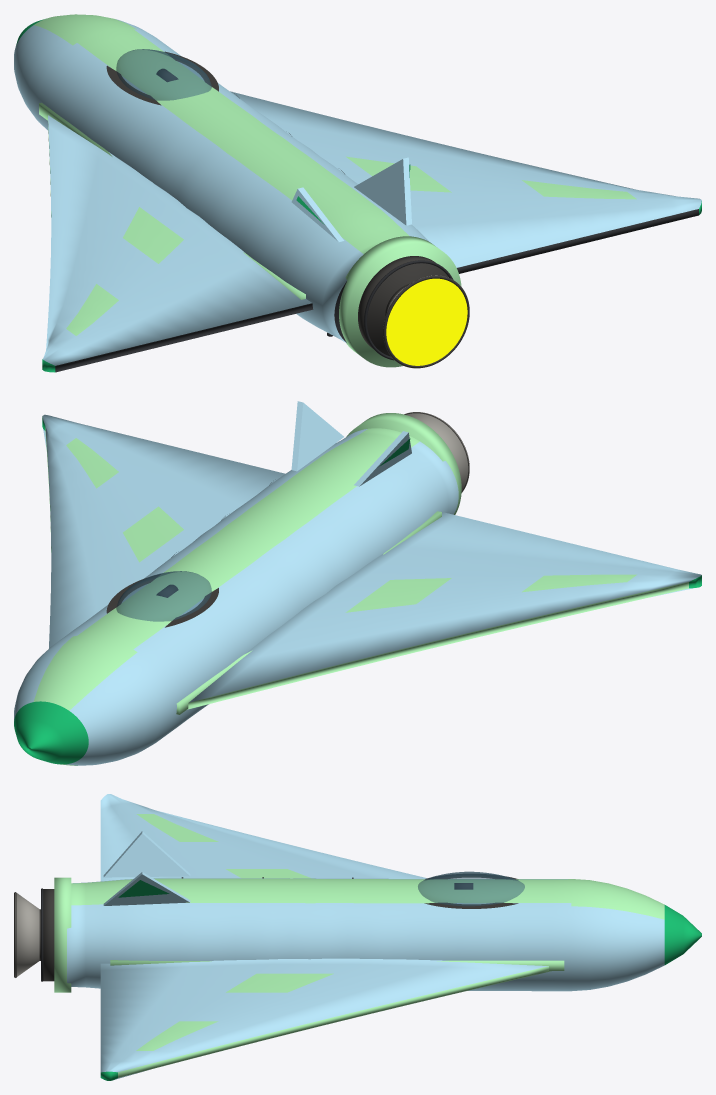
Rendered from Ship_Longwing_4.glb.
The picture shows the model from 3 angles, top to bottom: view 1: azimuth 30°, elevation 25°; view 2: azimuth 150°, elevation 25°; view 3: azimuth 270°, elevation 25°; orthographic projection. The views are drawn at different scales.
Parts seen in each view (by area): view 1: Fuselage_OrganicEllipsoidTaperedBody_BakedPaint, Wing_Left_LongDeltaAerofoil_BakedPaint, Wing_Right_LongDeltaAerofoil_BakedPaint, EngineEmitter, AftCollar_IntegratedSingleEngineBand, CanopyGlass_LowInsetDome, EngineBlock_AftDarkSingleEngineHousing, TailFin_Right_CantedStabilizer, CanopyFrame_DorsalOvalRim, EngineLip_Center_DarkWideRim, WingRoot_Left_EmbeddedShoulder, TailFin_Left_CantedStabilizer (+1 smaller); view 2: Fuselage_OrganicEllipsoidTaperedBody_BakedPaint, Wing_Left_LongDeltaAerofoil_BakedPaint, Wing_Right_LongDeltaAerofoil_BakedPaint, CanopyGlass_LowInsetDome, TailFin_Right_CantedStabilizer, AftCollar_IntegratedSingleEngineBand, EngineBell_Center_BroadBurnishedNozzle, CanopyFrame_DorsalOvalRim, TailFin_Left_CantedStabilizer, WingRoot_Left_EmbeddedShoulder; view 3: Fuselage_OrganicEllipsoidTaperedBody_BakedPaint, Wing_Right_LongDeltaAerofoil_BakedPaint, Wing_Left_LongDeltaAerofoil_BakedPaint, CanopyGlass_LowInsetDome, TailFin_Left_CantedStabilizer, AftCollar_IntegratedSingleEngineBand, EngineBell_Center_BroadBurnishedNozzle, TailFin_Right_CantedStabilizer, EngineBlock_AftDarkSingleEngineHousing, WingRoot_Right_EmbeddedShoulder, CanopyFrame_DorsalOvalRim, TailFin_Right_BakedTrimPatch.
Part boxes in pixels (x1,y1,x2,y2): Fuselage_OrganicEllipsoidTaperedBody_BakedPaint: (14,14,429,342); Wing_Left_LongDeltaAerofoil_BakedPaint: (42,115,313,372); Wing_Right_LongDeltaAerofoil_BakedPaint: (230,91,701,273); EngineEmitter: (386,278,467,365); AftCollar_IntegratedSingleEngineBand: (339,236,461,367); CanopyGlass_LowInsetDome: (116,49,211,100); EngineBlock_AftDarkSingleEngineHousing: (358,256,448,356); TailFin_Right_CantedStabilizer: (354,157,411,225); CanopyFrame_DorsalOvalRim: (106,51,218,105); EngineLip_Center_DarkWideRim: (383,275,469,368); WingRoot_Left_EmbeddedShoulder: (39,102,305,299); TailFin_Left_CantedStabilizer: (291,187,344,241); Fuselage_OrganicEllipsoidTaperedBody_BakedPaint: (14,428,458,765); Wing_Left_LongDeltaAerofoil_BakedPaint: (187,512,701,709); Wing_Right_LongDeltaAerofoil_BakedPaint: (42,414,285,648); CanopyGlass_LowInsetDome: (116,571,211,621); TailFin_Right_CantedStabilizer: (291,401,343,471); AftCollar_IntegratedSingleEngineBand: (346,413,461,514); EngineBell_Center_BroadBurnishedNozzle: (404,412,469,492); CanopyFrame_DorsalOvalRim: (106,574,218,627); TailFin_Left_CantedStabilizer: (354,431,411,486); WingRoot_Left_EmbeddedShoulder: (176,511,441,714); Fuselage_OrganicEllipsoidTaperedBody_BakedPaint: (67,878,701,991); Wing_Right_LongDeltaAerofoil_BakedPaint: (100,958,551,1080); Wing_Left_LongDeltaAerofoil_BakedPaint: (100,794,426,881); CanopyGlass_LowInsetDome: (418,871,524,906); TailFin_Left_CantedStabilizer: (103,831,190,877); AftCollar_IntegratedSingleEngineBand: (54,877,71,992); EngineBell_Center_BroadBurnishedNozzle: (15,892,39,977); TailFin_Right_CantedStabilizer: (103,872,190,905); EngineBlock_AftDarkSingleEngineHousing: (43,889,54,981); WingRoot_Right_EmbeddedShoulder: (110,960,564,970); CanopyFrame_DorsalOvalRim: (424,874,518,908); TailFin_Right_BakedTrimPatch: (118,880,169,897).
Bounding box in the file's own units: 6.83 × 1.57 × 7.15.
